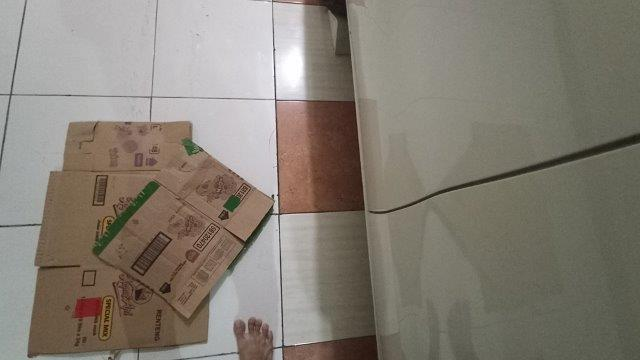kardus: (30, 123, 273, 353)
